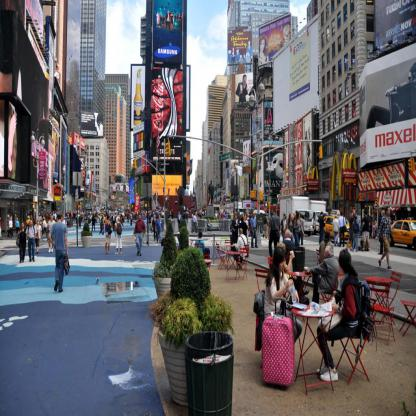face: (279, 258, 286, 272), (260, 41, 266, 51), (325, 250, 330, 259), (62, 215, 65, 223), (388, 209, 391, 216), (244, 78, 248, 83), (236, 214, 239, 219), (31, 222, 34, 227), (51, 216, 54, 221), (139, 216, 142, 220), (22, 224, 25, 228), (299, 214, 301, 219), (284, 216, 286, 220), (291, 215, 293, 219), (160, 216, 162, 220), (145, 214, 147, 218), (354, 211, 356, 215), (295, 214, 297, 217), (38, 222, 40, 225), (87, 221, 89, 224), (246, 216, 247, 221), (254, 214, 255, 218), (155, 216, 156, 219)
